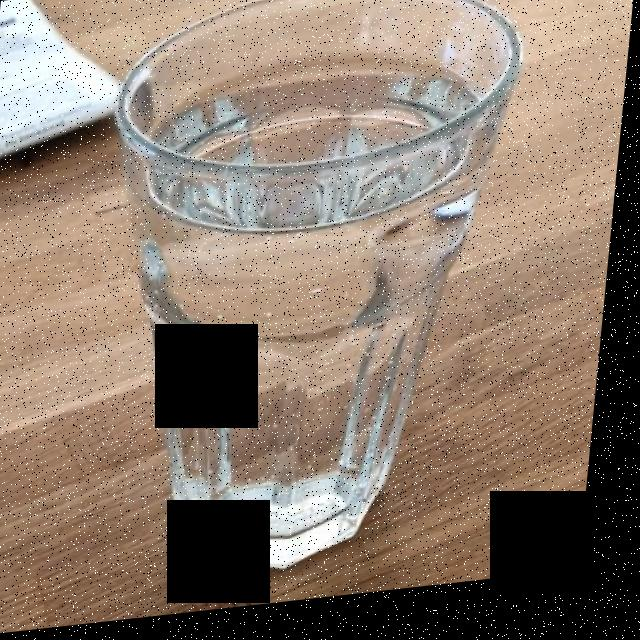water: (145, 58, 502, 527)
